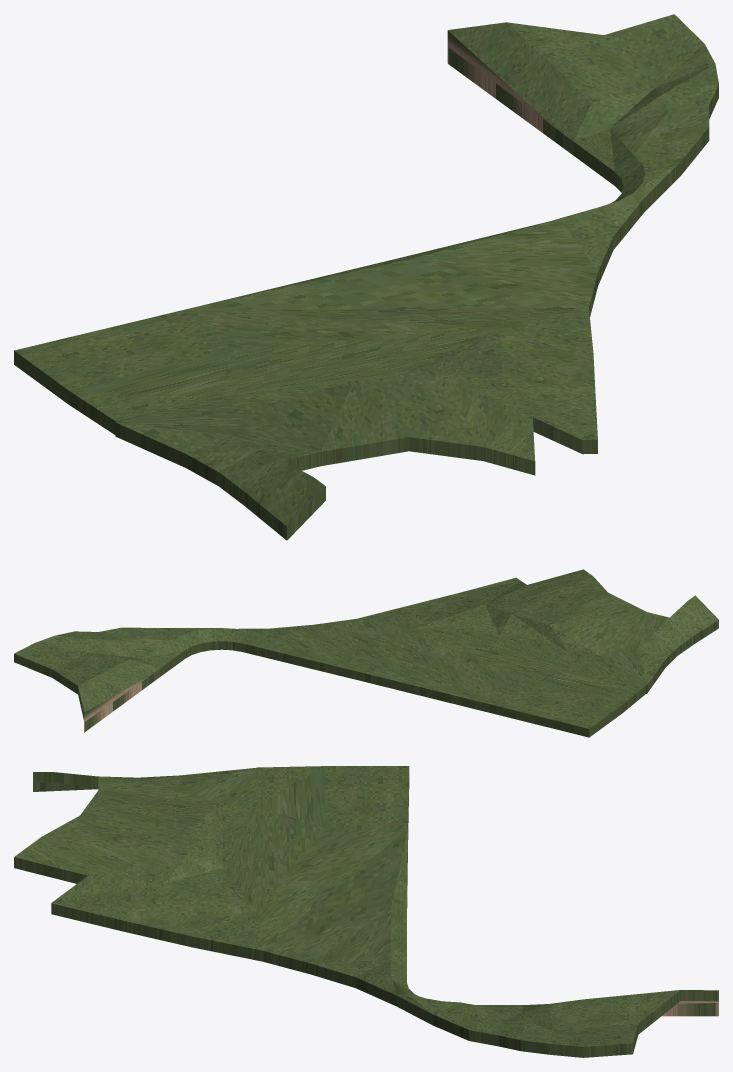
The model's file is lod_cuntwlnd26.obj.
3 renders of one model, top to bottom at view 1: azimuth 30°, elevation 25°; view 2: azimuth 150°, elevation 25°; view 3: azimuth 270°, elevation 25°, orthographic. The views are drawn at different scales.
Parts seen in each view (by area): view 1: lod_cuntwlnd26; view 2: lod_cuntwlnd26; view 3: lod_cuntwlnd26.
Part boxes in pixels (x1,y1,x2,y2): lod_cuntwlnd26: (14, 14, 718, 540); lod_cuntwlnd26: (14, 569, 718, 737); lod_cuntwlnd26: (14, 766, 718, 1057).
Bounding box in the file's own units: 218 × 14.82 × 214.
Materials: 2 (2 with a texture image).
